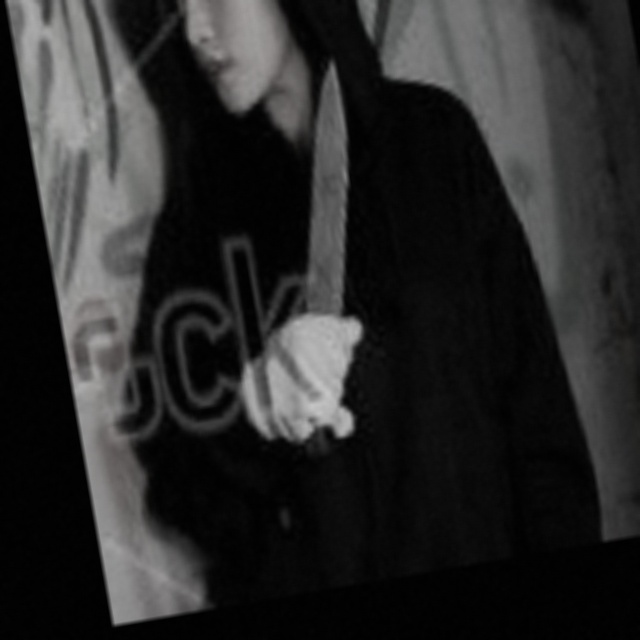Sharp-Object: (240, 60, 398, 454)
